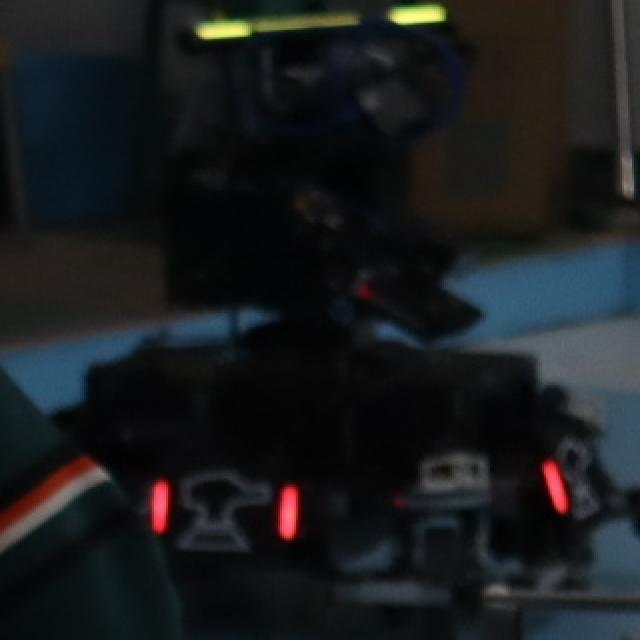Rs: (144, 466, 300, 554), (534, 424, 614, 529)
